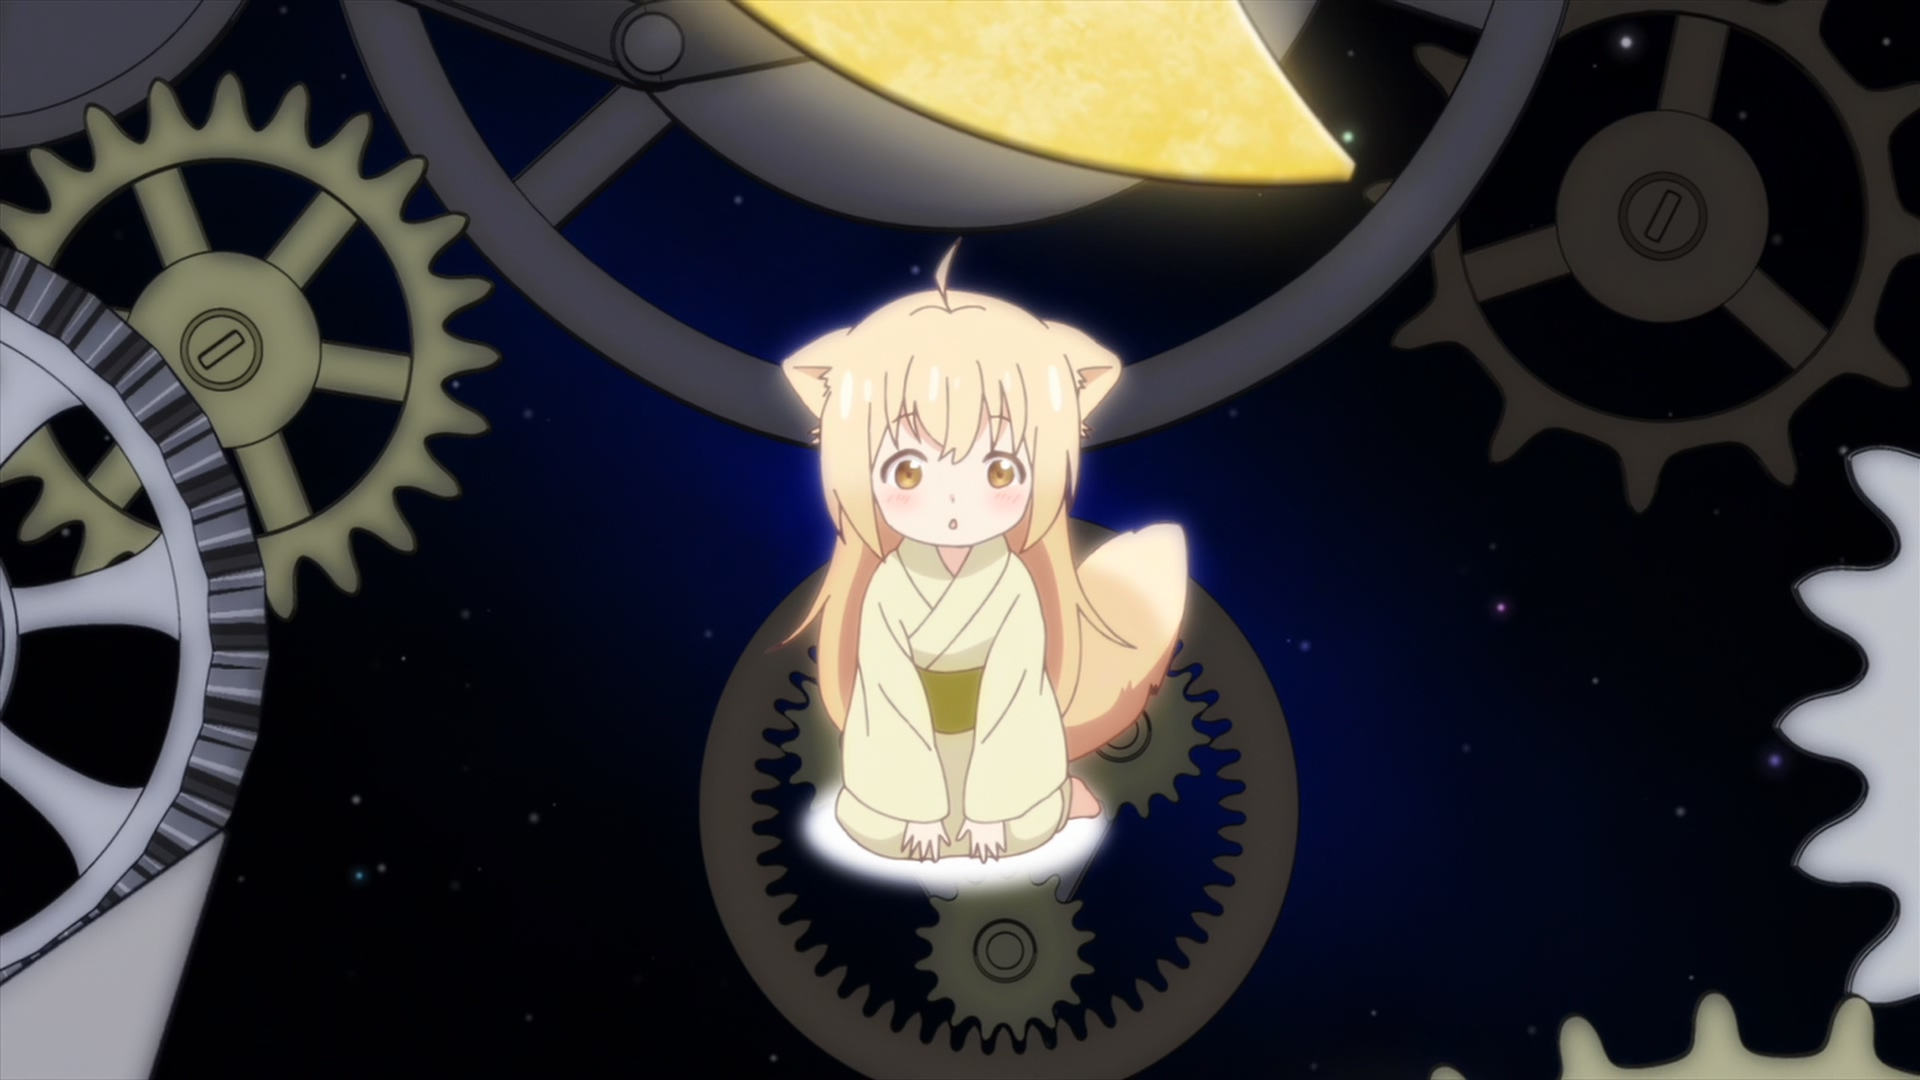柚: (781, 237, 1189, 862)
